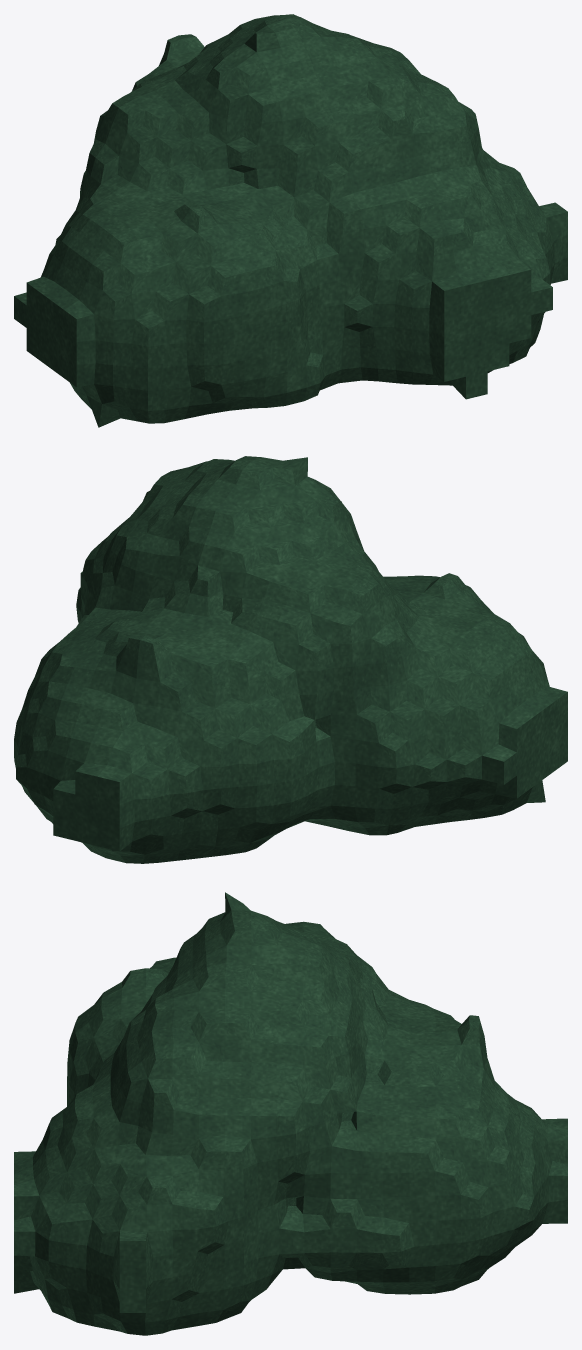
File: shrub_juniper.glb
3 renders of one model, top to bottom at view 1: azimuth 30°, elevation 25°; view 2: azimuth 150°, elevation 25°; view 3: azimuth 270°, elevation 25°, orthographic. The views are drawn at different scales.
Parts seen in each view (by area): view 1: wilds_shrub_juniper; view 2: wilds_shrub_juniper; view 3: wilds_shrub_juniper.
Part boxes in pixels (x1,y1,x2,y2): wilds_shrub_juniper: (14, 14, 567, 427); wilds_shrub_juniper: (14, 456, 567, 863); wilds_shrub_juniper: (14, 892, 567, 1335).
Bounding box in the file's own units: 1.38 × 0.875 × 1.31.
Materials: 1 (1 with a texture image).
